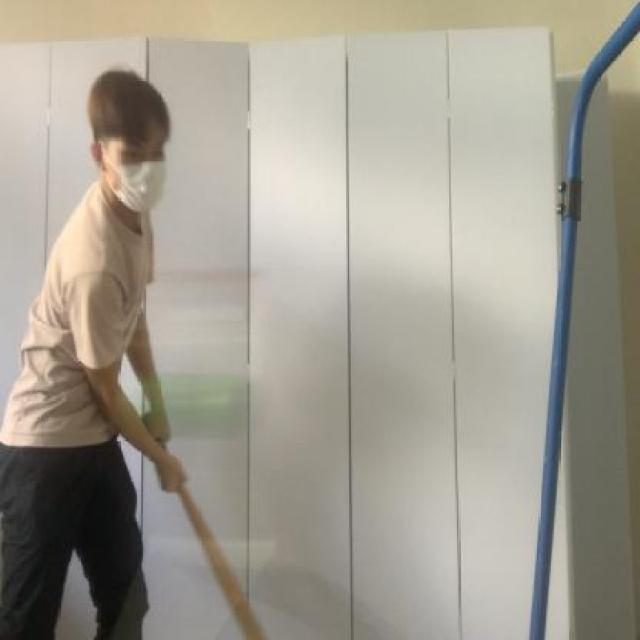baseball: (118, 362, 271, 446)
